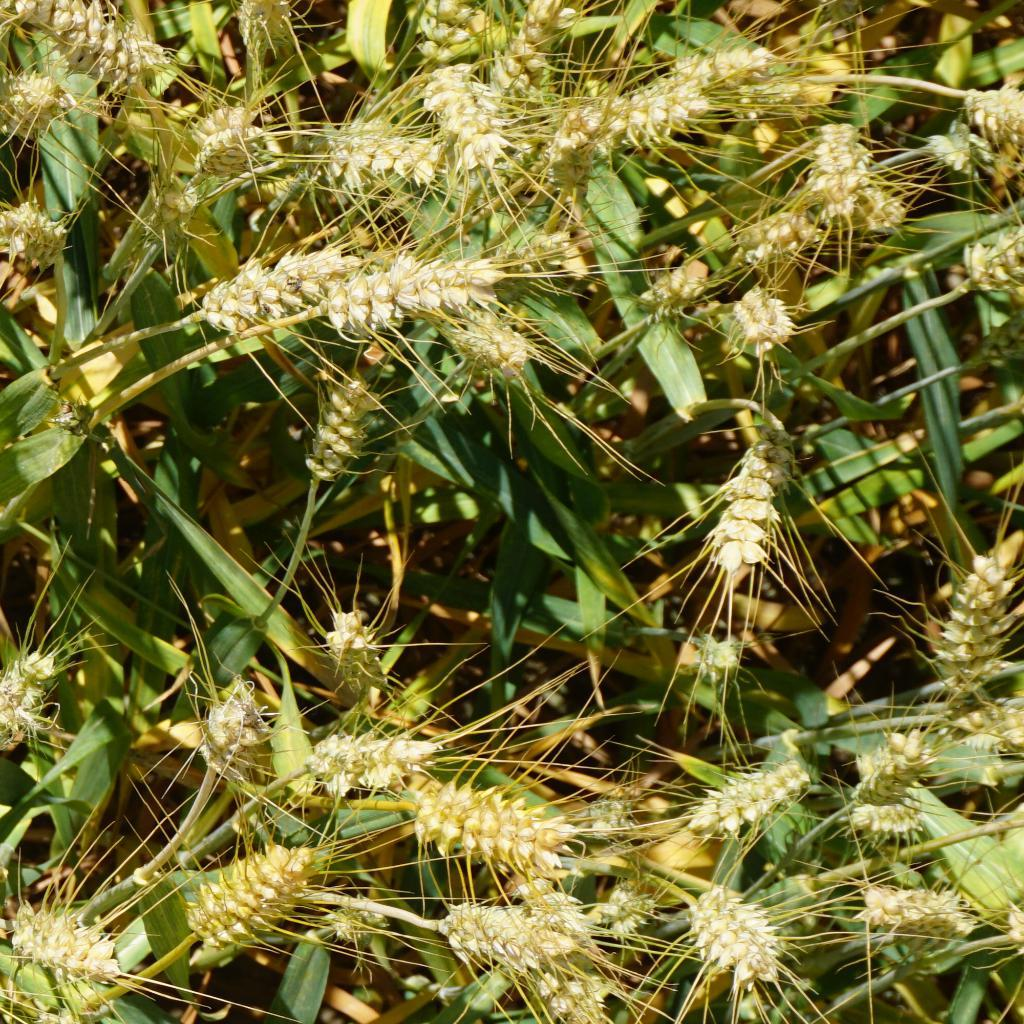0-0: (302, 240, 519, 345), (690, 413, 816, 581), (398, 777, 570, 876), (290, 364, 398, 488), (188, 247, 340, 334), (942, 536, 1024, 696), (582, 51, 694, 163), (293, 111, 429, 203), (847, 867, 970, 968), (683, 749, 818, 841), (292, 729, 449, 802), (842, 716, 955, 814), (21, 0, 155, 82), (7, 892, 128, 982), (682, 885, 780, 994), (411, 64, 503, 170), (186, 678, 284, 777), (195, 847, 291, 937), (659, 42, 797, 103), (433, 890, 550, 961), (316, 602, 397, 698), (180, 93, 272, 177), (449, 308, 534, 398), (482, 0, 564, 91), (813, 112, 874, 231), (136, 160, 211, 256), (631, 259, 725, 328), (524, 958, 618, 1024), (725, 281, 799, 364), (927, 122, 1012, 193), (0, 200, 80, 275), (736, 196, 822, 265), (843, 790, 941, 847), (503, 227, 585, 295), (397, 0, 489, 60), (951, 220, 1024, 290), (948, 78, 1024, 145), (591, 883, 668, 944), (322, 890, 399, 950), (4, 62, 69, 133), (0, 655, 52, 743), (686, 625, 748, 693), (850, 166, 907, 236), (547, 78, 600, 153), (574, 789, 640, 845), (230, 0, 295, 55), (967, 694, 1024, 747), (48, 393, 100, 444), (0, 1008, 83, 1024)
